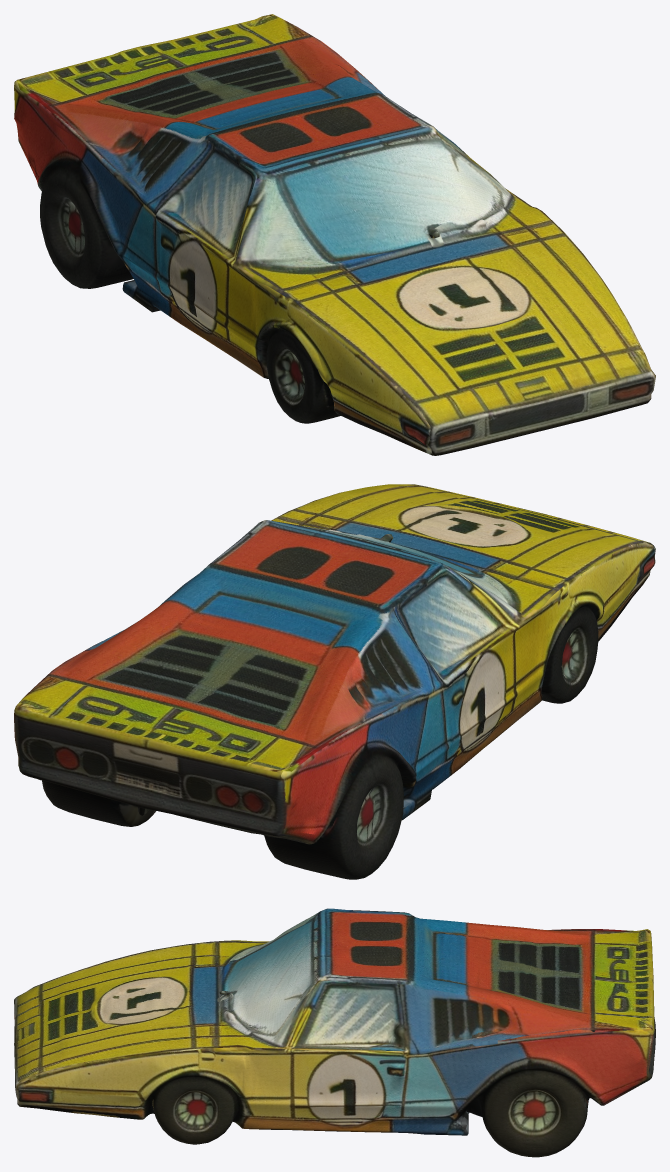
The model's file is ext_papercar.glb.
3 views of the same model, one above another, from view 1: azimuth 30°, elevation 25°; view 2: azimuth 150°, elevation 25°; view 3: azimuth 270°, elevation 25° (orthographic). The views are drawn at different scales.
Visible parts, largest first — view 1: Race Car Model; view 2: Race Car Model; view 3: Race Car Model.
Boxes of the visible parts, x1,y1,x2,y2 form: Race Car Model: (14, 14, 655, 455); Race Car Model: (14, 484, 655, 879); Race Car Model: (14, 908, 655, 1157).
Size of the model in its own units: 1.75 by 1.09 by 3.95.
Materials: 1 (1 with a texture image).
